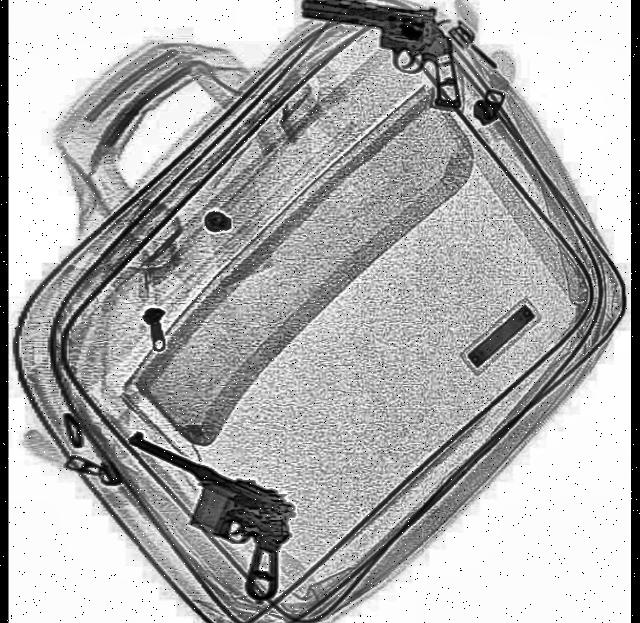Gun: (97, 427, 304, 608), (292, 0, 466, 110)
